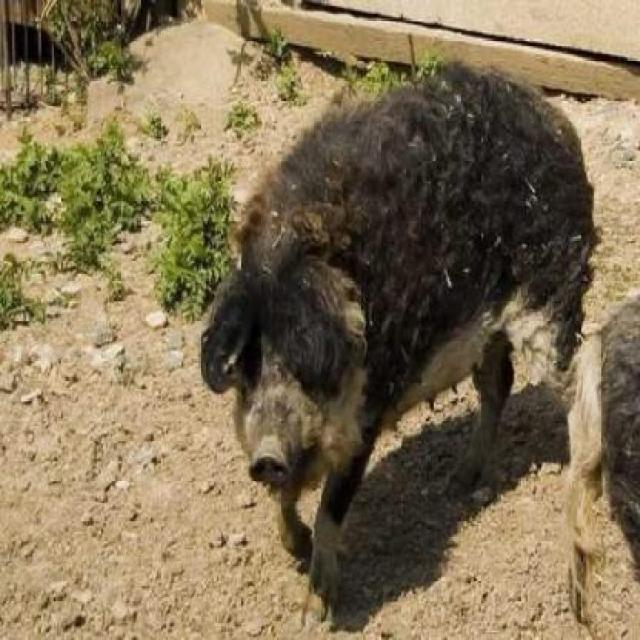pig: (110, 0, 602, 485)
